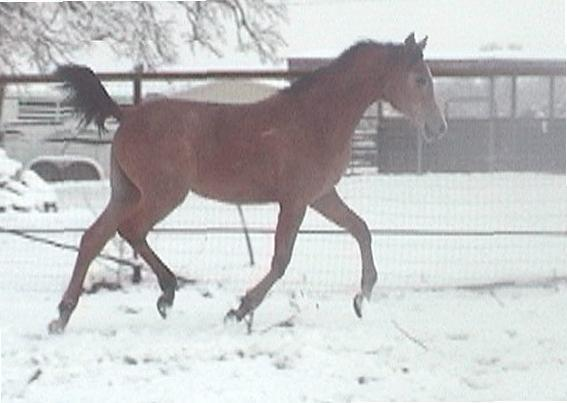horse: (46, 31, 448, 335)
